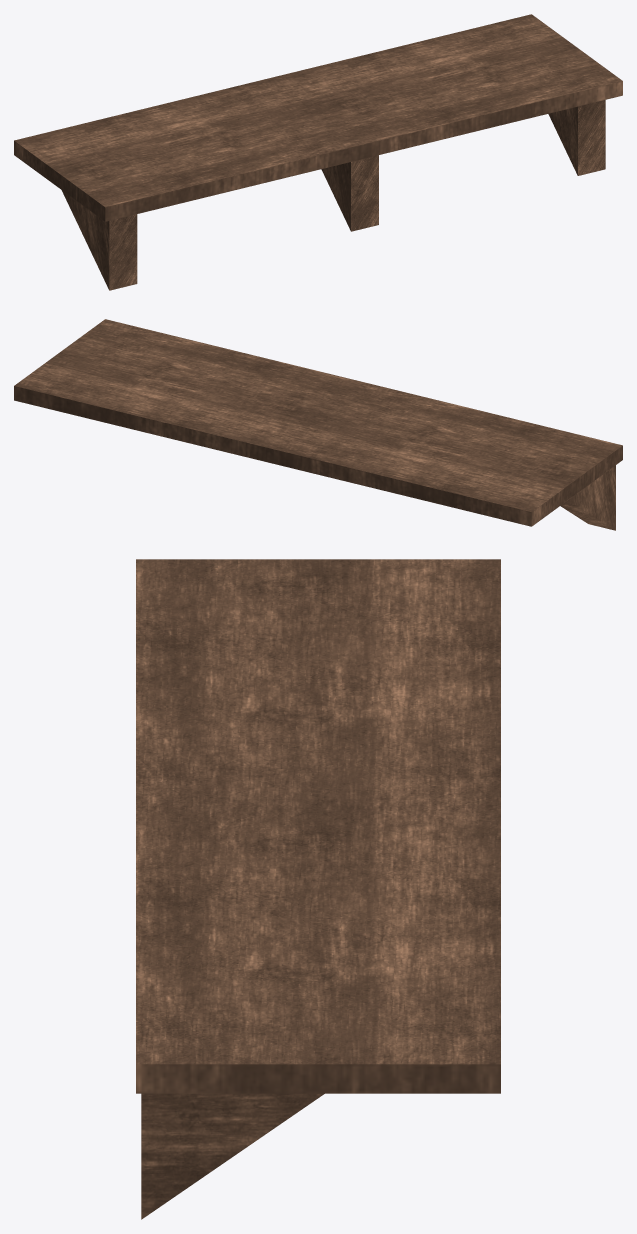
Rendered from WallTable.glb.
3 views of the same model, one above another, from view 1: azimuth 30°, elevation 25°; view 2: azimuth 150°, elevation 25°; view 3: azimuth 270°, elevation 25° (orthographic). The views are drawn at different scales.
Parts seen in each view (by area): view 1: pCube15; view 2: pCube15; view 3: pCube15.
Boxes of the visible parts, x1=… form: pCube15: x1=14, y1=14, x2=622, y2=290; pCube15: x1=14, y1=319, x2=622, y2=530; pCube15: x1=136, y1=559, x2=500, y2=1219.
Size of the model in its own units: 0.0862 by 0.0137 by 0.0263.
Materials: 1 (1 with a texture image).
